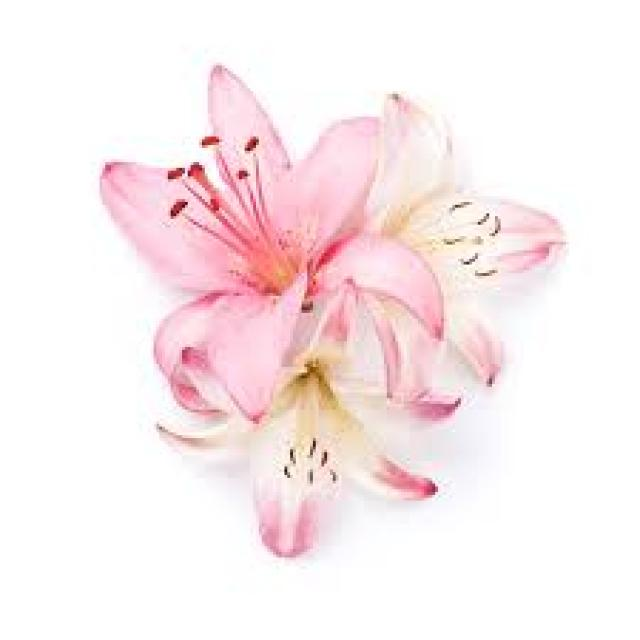lily: (74, 46, 569, 562)
